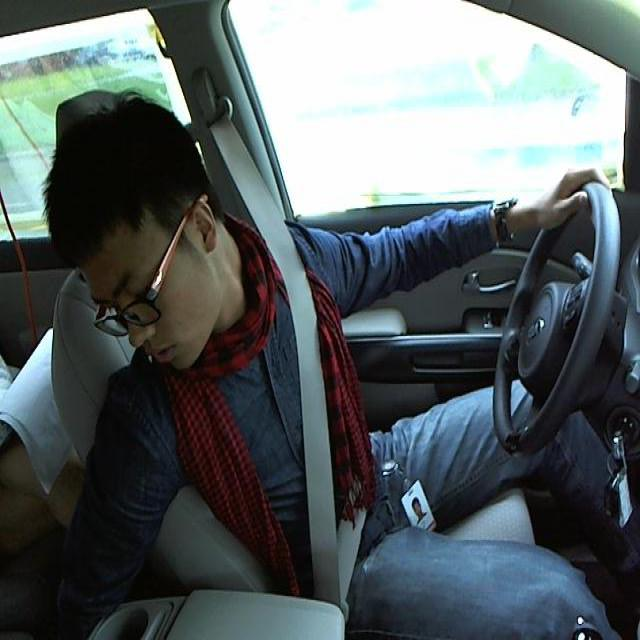seatbelt: (247, 224, 380, 596)
